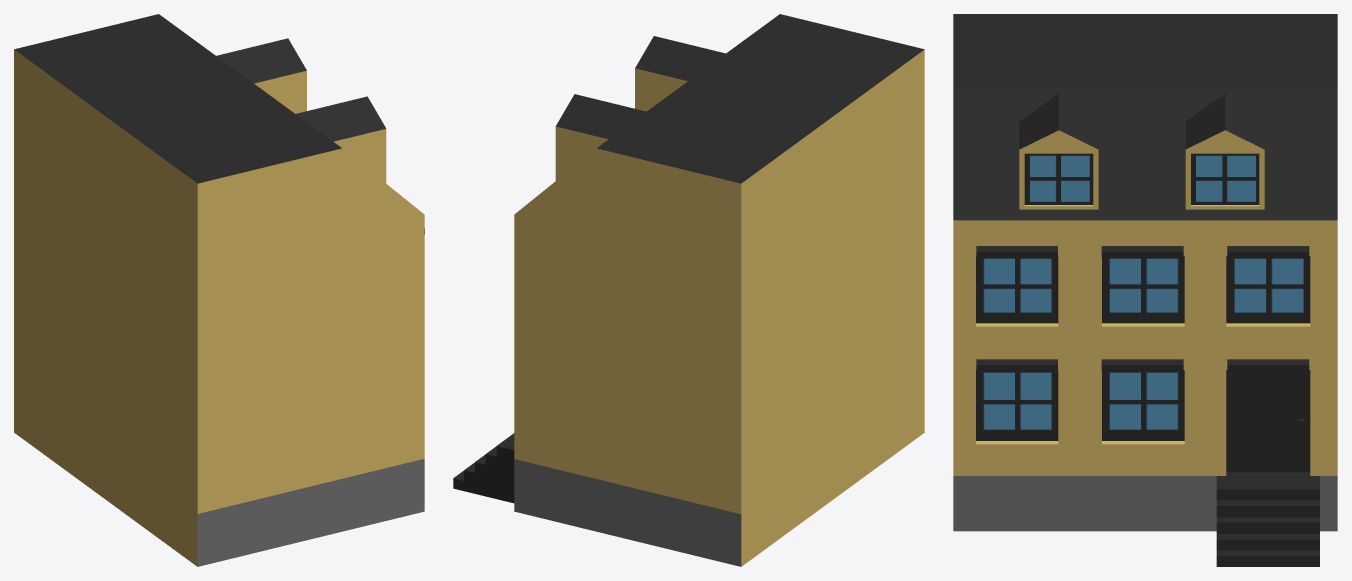
The model's file is NormalSquereYellow.obj.
3 renders of one model, left to right at view 1: azimuth 30°, elevation 25°; view 2: azimuth 150°, elevation 25°; view 3: azimuth 270°, elevation 25°, orthographic. The views are drawn at different scales.
Visible parts, largest first — view 1: ZwyklayKwadratowyZolty; view 2: ZwyklayKwadratowyZolty; view 3: ZwyklayKwadratowyZolty.
Boxes of the visible parts, left/top/right/bottom form: ZwyklayKwadratowyZolty: left=14, top=14, right=424, bottom=566; ZwyklayKwadratowyZolty: left=453, top=14, right=924, bottom=566; ZwyklayKwadratowyZolty: left=953, top=14, right=1337, bottom=566.
Bounding box in the file's own units: 6.53 × 8.07 × 7.
